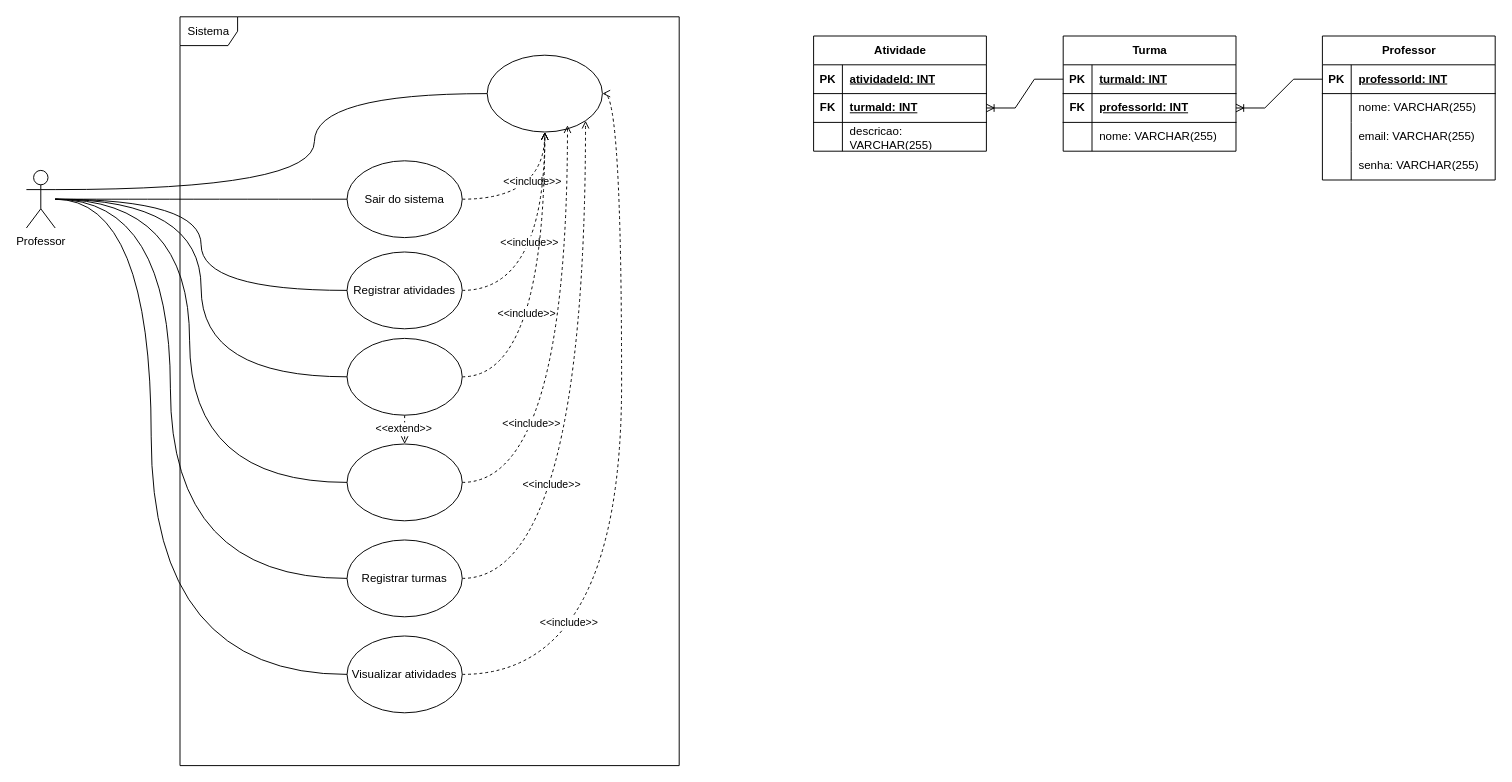
Image size: 1512x782. Some labels were removed from this diagram. Here are the shapes that lost their labels. From the top down, the centre of each, then its label:
At (544,93): "Autenticar-se no sistema".
At (404,376): "Excluir turmas".
At (404,482): "Visualizar turmas".
